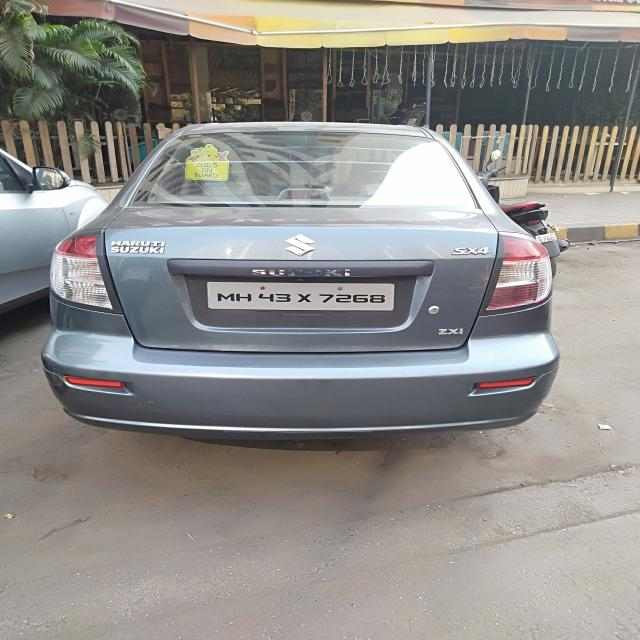Number-Plate: (212, 282, 390, 310)
